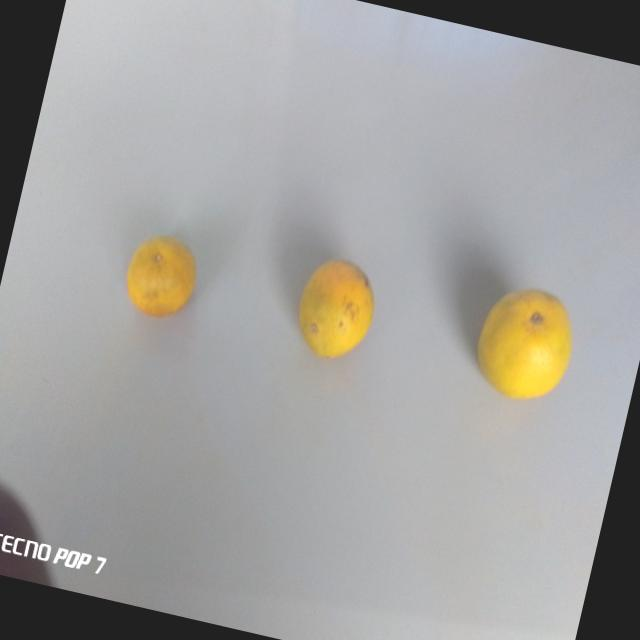Ripe orange: (450, 265, 599, 432), (273, 246, 396, 376), (114, 219, 216, 330)
